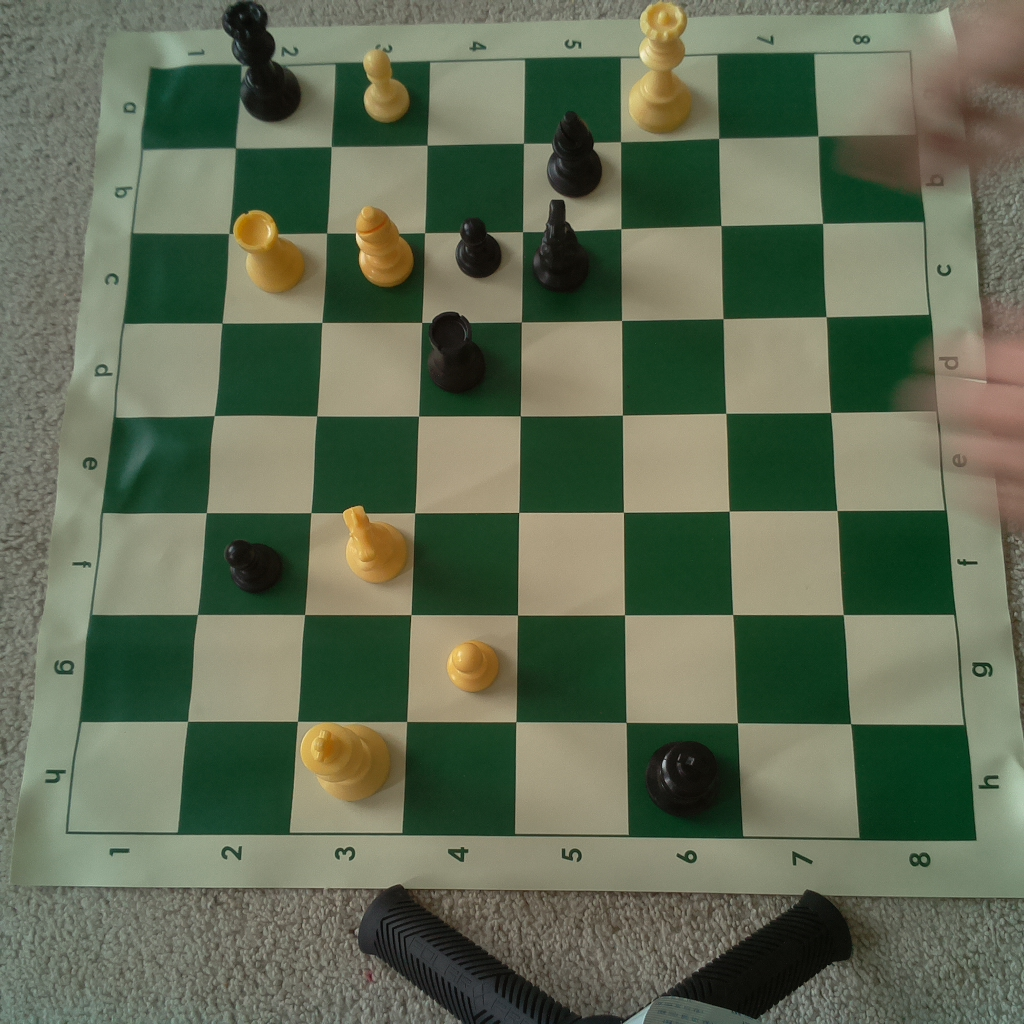black_bishop: (541, 108, 605, 199)
black_king: (641, 736, 728, 818)
black_knight: (525, 199, 598, 295)
black_pawn: (219, 534, 289, 596), (453, 217, 505, 282)
black_queen: (214, 2, 306, 123)
black_rook: (423, 306, 490, 395)
file_a: (141, 52, 919, 157)
file_b: (132, 136, 924, 238)
file_c: (123, 223, 932, 327)
file_d: (112, 313, 937, 418)
file_e: (103, 409, 946, 510)
file_f: (90, 508, 958, 615)
file_g: (81, 615, 966, 723)
file_h: (66, 721, 979, 840)
outline: (63, 53, 975, 838)
rank_1: (66, 64, 244, 834)
rank_2: (176, 64, 336, 834)
rank_3: (289, 62, 433, 835)
rank_4: (402, 61, 527, 836)
rank_5: (516, 57, 631, 838)
rank_6: (621, 58, 744, 834)
rank_7: (719, 54, 863, 839)
rank_8: (814, 53, 980, 838)
white_bishop: (354, 202, 416, 292)
white_king: (292, 715, 396, 802)
white_knight: (342, 495, 414, 588)
white_pawn: (355, 44, 412, 122), (445, 638, 505, 697)
white_queen: (624, 1, 701, 139)
white_rook: (227, 206, 310, 291)
